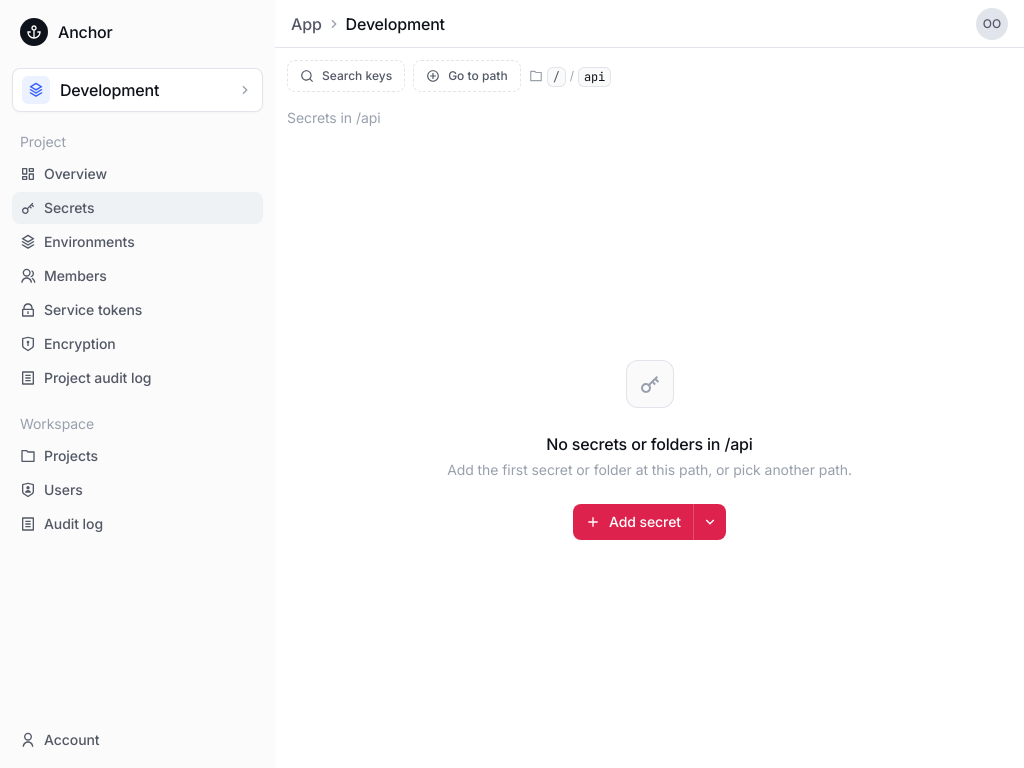
Test: /projects/$project/environments/$env › empty state at a path offers Add secret
Expected: the heading "No secrets or folders in /api" is shown, [546,432,753,456]
Click the button "Add secret" at (633, 522), box [573,504,693,540]
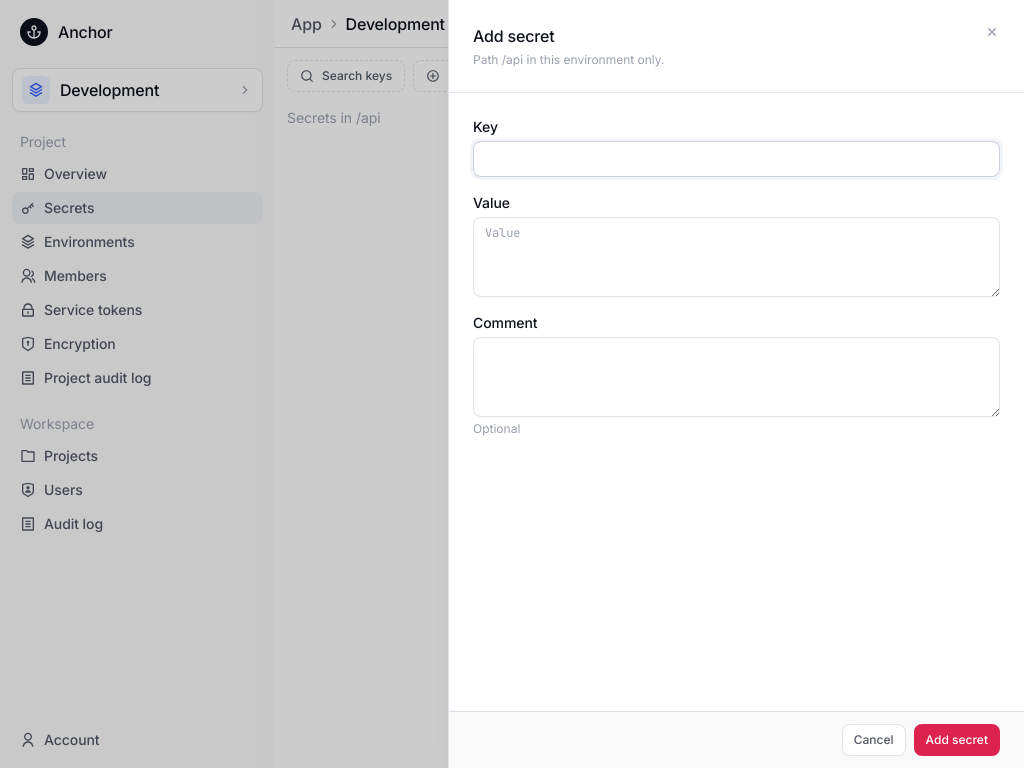
Now the dialog is shown, box [448,0,1023,767]
